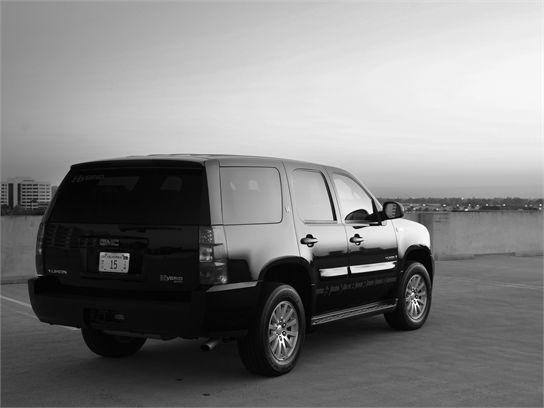car: (28, 154, 435, 378)
